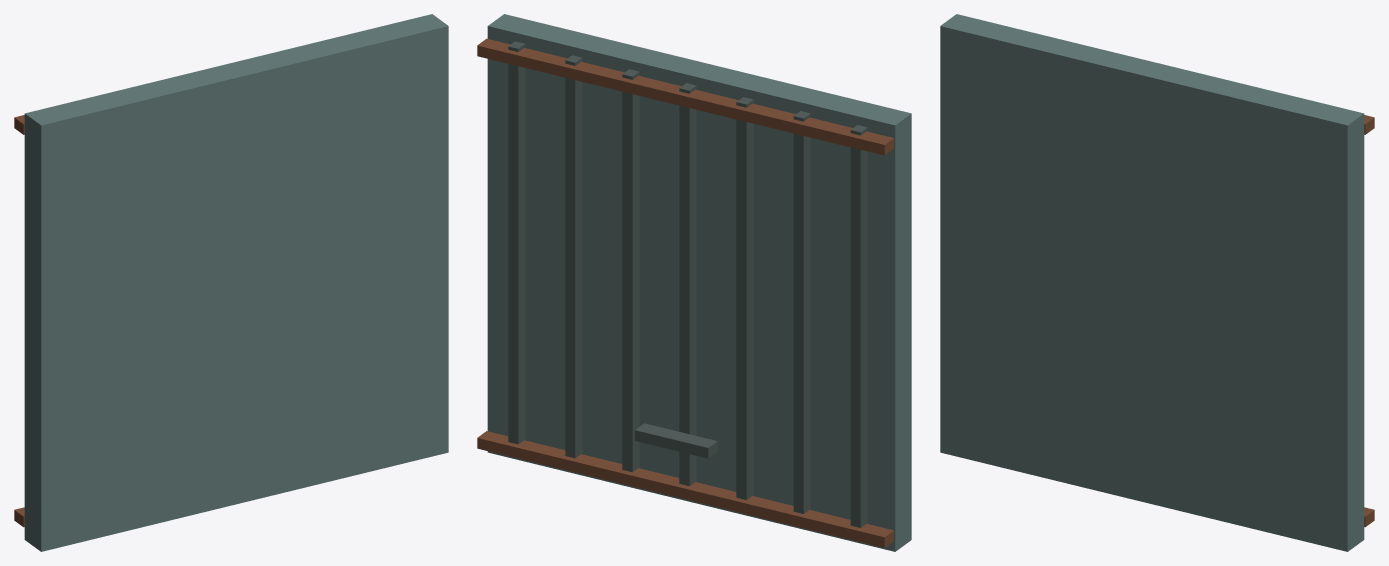
File: home_garage_door.glb
3 views of the same model, side by side, from view 1: azimuth 30°, elevation 25°; view 2: azimuth 150°, elevation 25°; view 3: azimuth 330°, elevation 25° (orthographic).
Visible parts, largest first — view 1: home_garage_door; view 2: home_garage_door; view 3: home_garage_door.
Part boxes in pixels (box(x1,y1,x2,y2)): home_garage_door: box(14, 14, 448, 551); home_garage_door: box(477, 14, 911, 551); home_garage_door: box(940, 14, 1374, 551).
Bounding box in the file's own units: 1 × 1 × 0.155.
